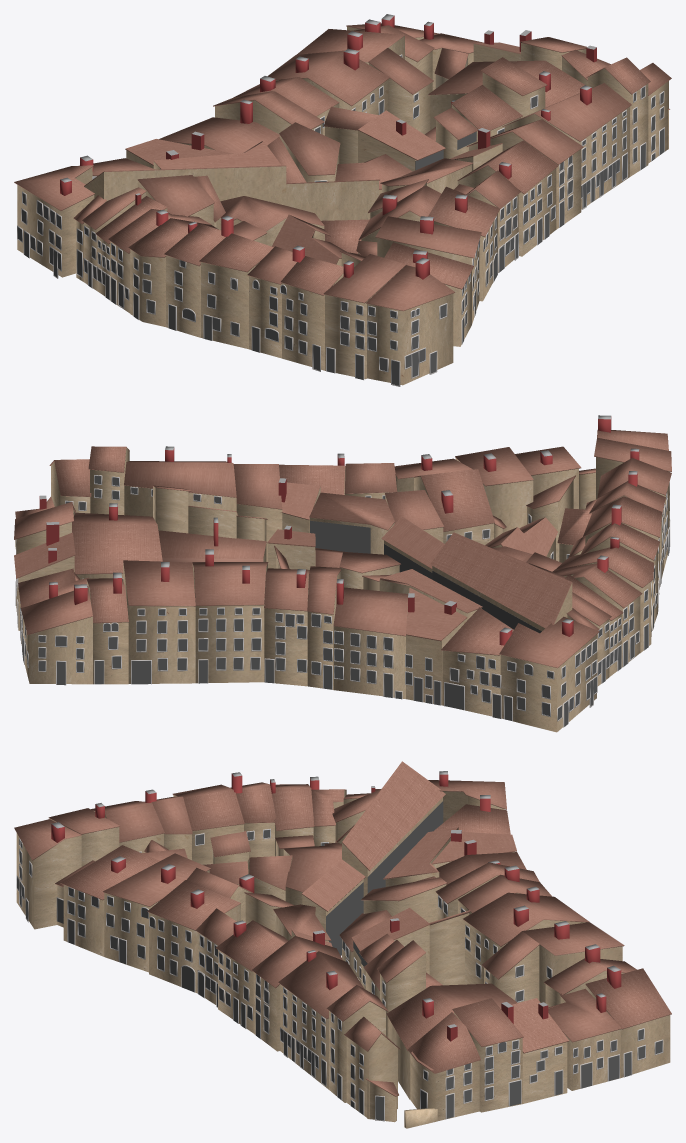
The model's file is ilot26combine.fbx.
The picture shows the model from 3 angles, top to bottom: view 1: azimuth 30°, elevation 25°; view 2: azimuth 150°, elevation 25°; view 3: azimuth 270°, elevation 25°; orthographic projection. The views are drawn at different scales.
Visible parts, largest first — view 1: _ILOT26BAT1, _ILOT26BAT29, _ILOT26BAT2, _ILOT26BAT11, _ILOT26BAT19, _ILOT26BAT31, _ILOT26BAT12, _ILOT26BAT42, _ILOT26BAT45, _ILOT26BAT20, _ILOT26BAT18, _ILOT26BAT30 (+43 smaller); view 2: _ILOT26BAT2, _ILOT26BAT42, _ILOT26BAT54, _ILOT26BAT45, _ILOT26BAT47, _ILOT26BAT53, _ILOT26BAT27, _ILOT26BAT49, _ILOT26BAT29, _ILOT26BAT40, _ILOT26BAT46, _ILOT26BAT33 (+39 smaller); view 3: _ILOT26BAT45, _ILOT26BAT29, _ILOT26BAT69, _ILOT26BAT9, _ILOT26BAT53, _ILOT26BAT5, _ILOT26BAT1, _ILOT26BAT51, _ILOT26BAT42, _ILOT26BAT41, _ILOT26BAT4, _ILOT26BAT50 (+40 smaller).
Boxes of the visible parts, bbox=[...] form: _ILOT26BAT1: bbox=[366, 258, 455, 386]; _ILOT26BAT29: bbox=[502, 83, 631, 209]; _ILOT26BAT2: bbox=[14, 165, 94, 278]; _ILOT26BAT11: bbox=[323, 254, 406, 380]; _ILOT26BAT19: bbox=[199, 233, 273, 349]; _ILOT26BAT31: bbox=[457, 140, 558, 256]; _ILOT26BAT12: bbox=[280, 256, 343, 371]; _ILOT26BAT42: bbox=[267, 48, 390, 114]; _ILOT26BAT45: bbox=[84, 165, 286, 205]; _ILOT26BAT20: bbox=[164, 215, 233, 337]; _ILOT26BAT18: bbox=[128, 218, 218, 326]; _ILOT26BAT30: bbox=[466, 119, 583, 229]; _ILOT26BAT2: bbox=[499, 616, 599, 732]; _ILOT26BAT42: bbox=[192, 549, 268, 683]; _ILOT26BAT54: bbox=[123, 560, 195, 684]; _ILOT26BAT45: bbox=[430, 532, 572, 633]; _ILOT26BAT47: bbox=[333, 579, 408, 699]; _ILOT26BAT53: bbox=[21, 584, 92, 685]; _ILOT26BAT27: bbox=[441, 607, 513, 718]; _ILOT26BAT49: bbox=[264, 568, 309, 686]; _ILOT26BAT29: bbox=[124, 446, 236, 516]; _ILOT26BAT40: bbox=[72, 503, 162, 580]; _ILOT26BAT46: bbox=[405, 588, 467, 705]; _ILOT26BAT33: bbox=[309, 492, 394, 554]; _ILOT26BAT45: bbox=[342, 761, 445, 896]; _ILOT26BAT29: bbox=[278, 950, 364, 1089]; _ILOT26BAT69: bbox=[407, 1012, 480, 1120]; _ILOT26BAT9: bbox=[147, 880, 240, 993]; _ILOT26BAT53: bbox=[585, 965, 671, 1077]; _ILOT26BAT5: bbox=[103, 853, 210, 972]; _ILOT26BAT1: bbox=[14, 819, 81, 929]; _ILOT26BAT51: bbox=[548, 988, 621, 1090]; _ILOT26BAT42: bbox=[463, 886, 589, 984]; _ILOT26BAT41: bbox=[452, 998, 523, 1112]; _ILOT26BAT4: bbox=[60, 845, 159, 956]; _ILOT26BAT50: bbox=[500, 998, 569, 1103].
Size of the model in its own units: 15.98 by 2.87 by 15.44.
